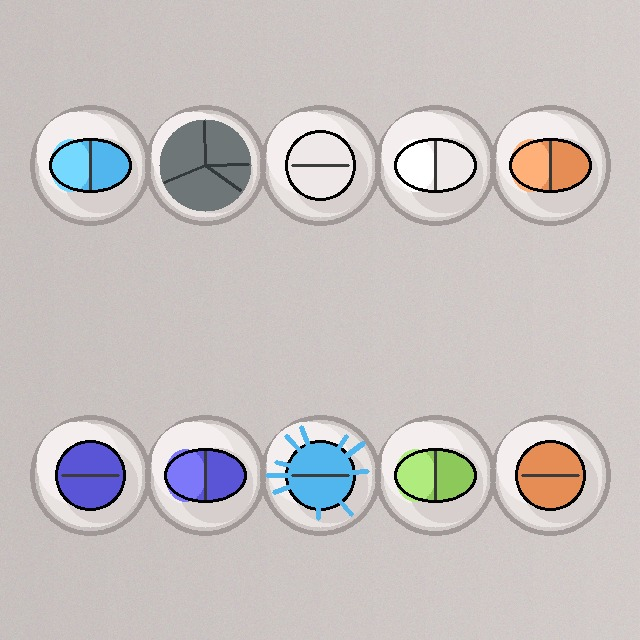empty: (143, 103, 267, 227)
flash: (258, 413, 382, 537)
